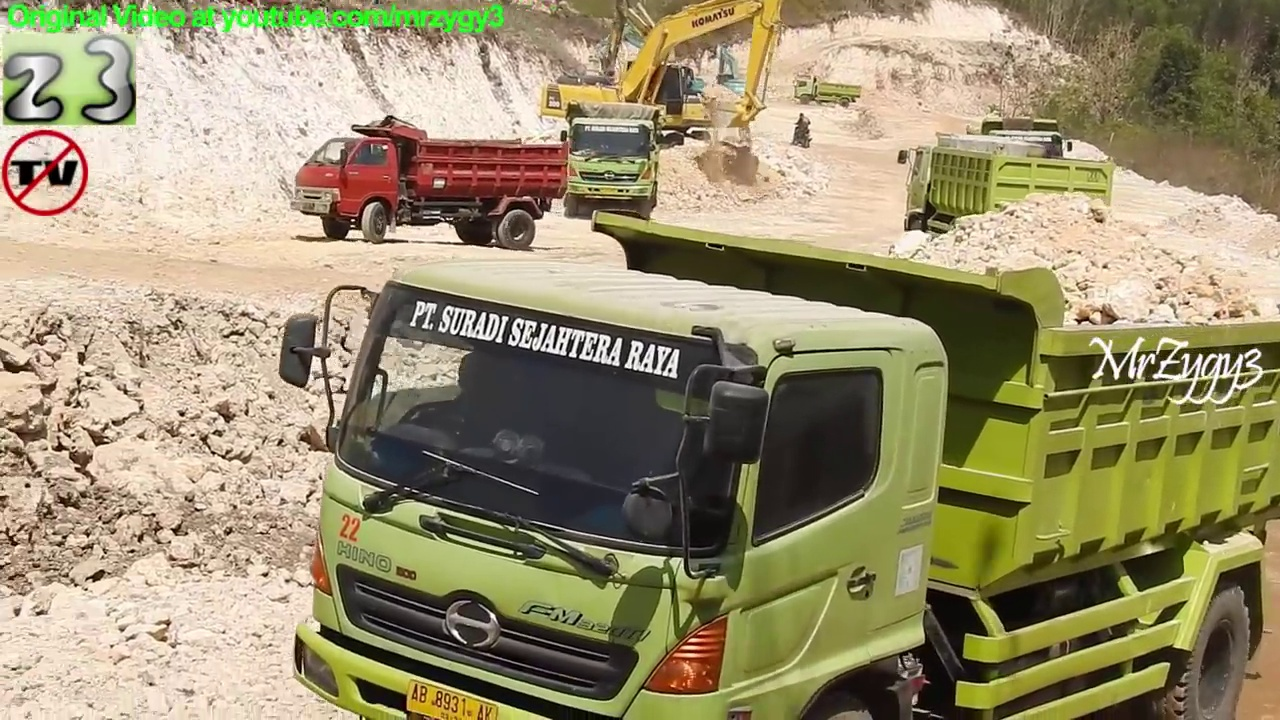excavator: (537, 1, 782, 155), (591, 2, 743, 144), (586, 12, 712, 124), (712, 41, 751, 110)
truck: (275, 207, 1280, 720), (289, 116, 575, 254), (895, 127, 1123, 276), (560, 99, 668, 223), (964, 114, 1078, 220), (793, 74, 867, 113)
